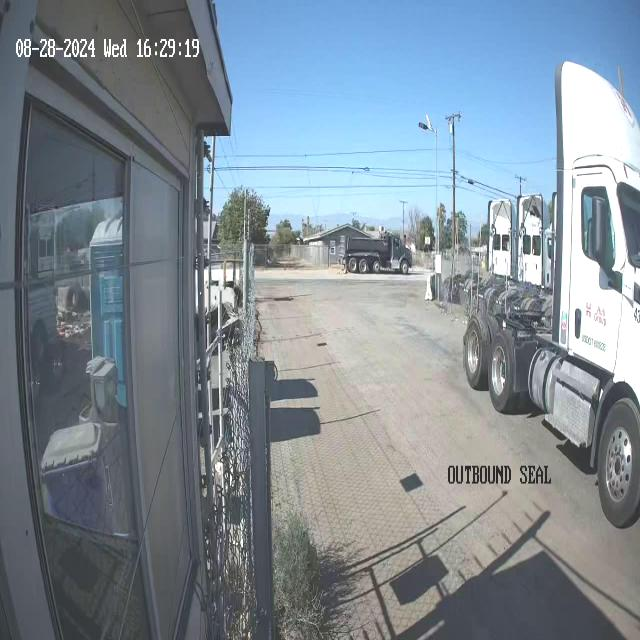BOBTAIL: (462, 59, 640, 529)
